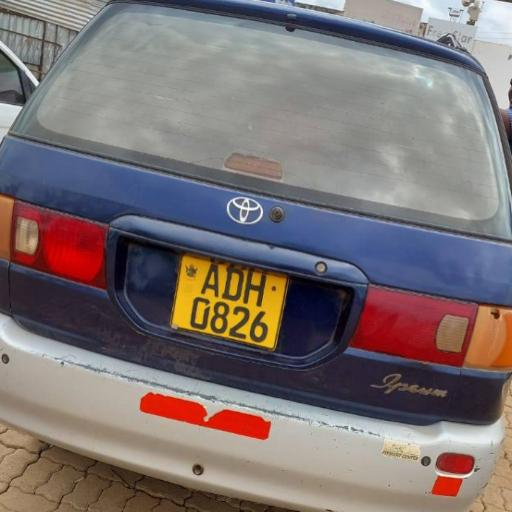number-plates: (179, 248, 280, 344)
